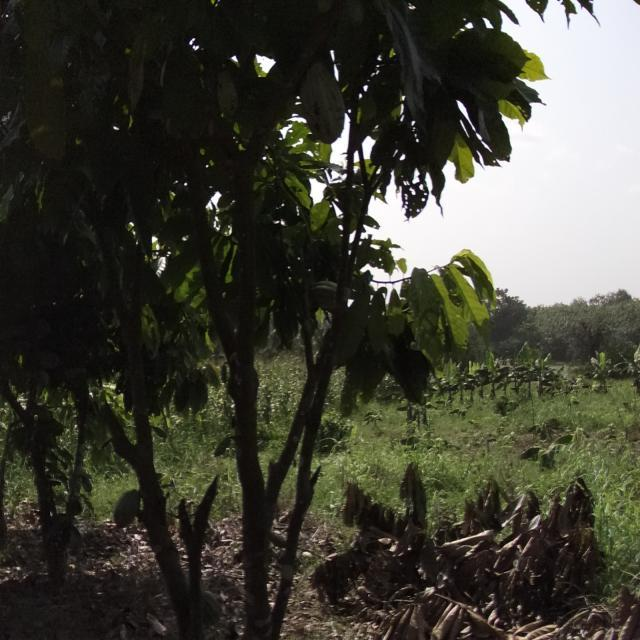Immature: (211, 426, 239, 468)
Mature_Unripe: (298, 48, 357, 148), (106, 488, 156, 540), (216, 68, 247, 124)
